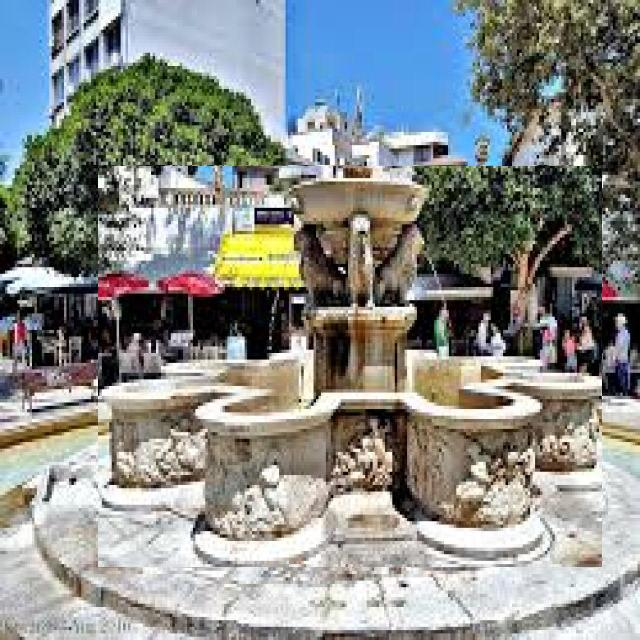Liontaria: (100, 167, 604, 568)
